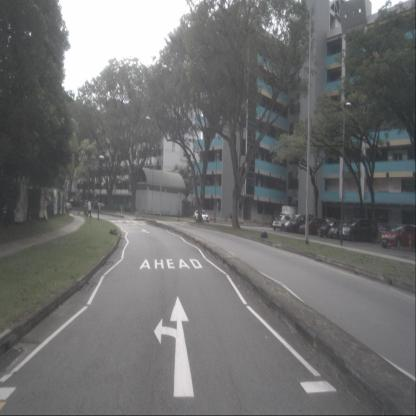human-pedestrian-adult: (86, 199, 92, 219)
vehicle-car: (340, 216, 378, 244), (380, 222, 415, 250), (300, 217, 328, 236), (289, 213, 314, 233), (284, 213, 306, 233), (318, 218, 340, 238), (272, 215, 292, 231), (194, 209, 210, 224), (62, 201, 73, 211)
vehicle-truck: (280, 207, 297, 224)
